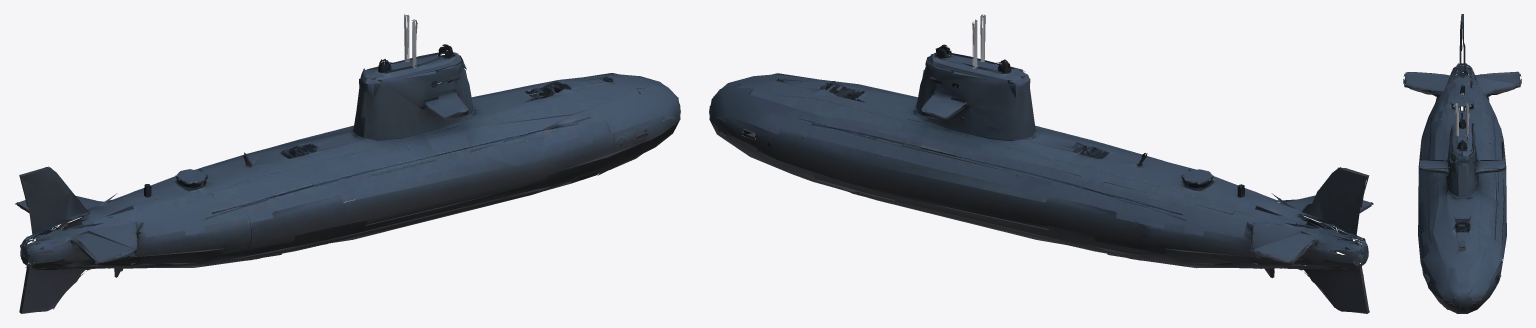
The model's file is hunter_LOD2.glb.
3 views of the same model, side by side, from view 1: azimuth 30°, elevation 25°; view 2: azimuth 150°, elevation 25°; view 3: azimuth 270°, elevation 25° (orthographic). The views are drawn at different scales.
Parts seen in each view (by area): view 1: hunter_LOD2; view 2: hunter_LOD2; view 3: hunter_LOD2.
Part boxes in pixels (x1,y1,x2,y2): hunter_LOD2: (15, 14, 680, 313); hunter_LOD2: (709, 14, 1373, 313); hunter_LOD2: (1403, 14, 1521, 313).
Bounding box in the file's own units: 0.9999 × 0.2984 × 0.2222.
1 material, 1 textured.
